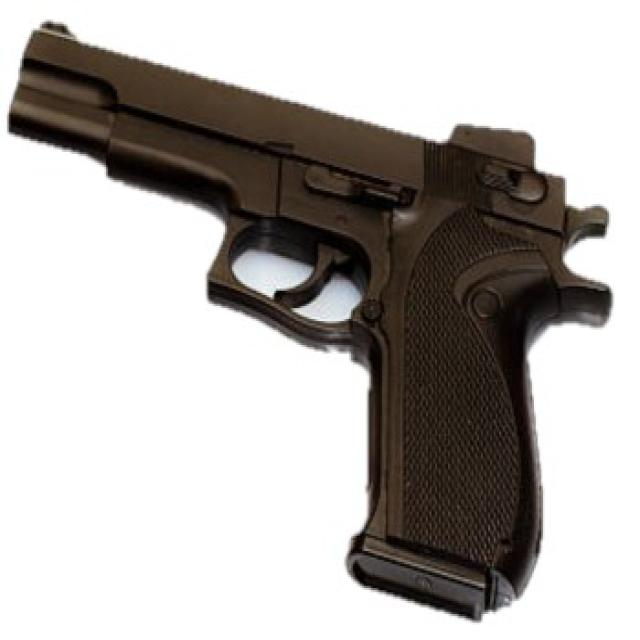pistol: (1, 20, 627, 628)
